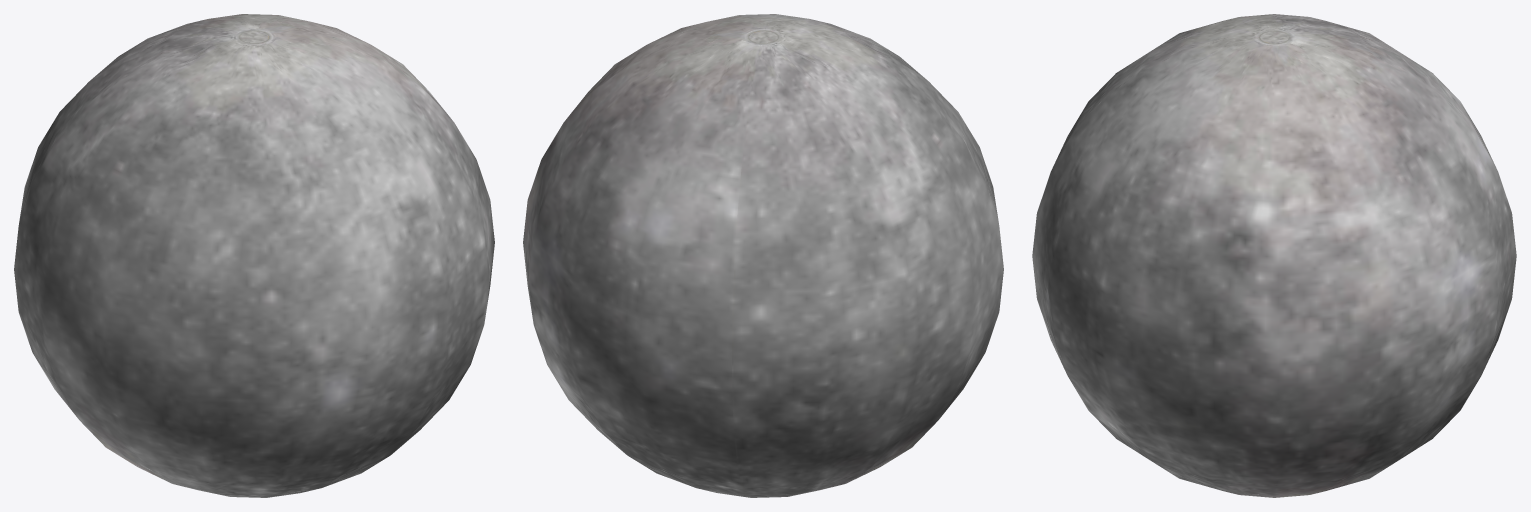
The model's file is Mercury.fbx.
The picture shows the model from 3 angles, left to right: view 1: azimuth 30°, elevation 25°; view 2: azimuth 150°, elevation 25°; view 3: azimuth 270°, elevation 25°; orthographic projection.
Parts seen in each view (by area): view 1: Mercury; view 2: Mercury; view 3: Mercury.
Part boxes in pixels (x1,y1,x2,y2): Mercury: (14,14,494,497); Mercury: (523,14,1003,497); Mercury: (1032,14,1516,497).
Bounding box in the file's own units: 3.96 × 3.94 × 3.96.
